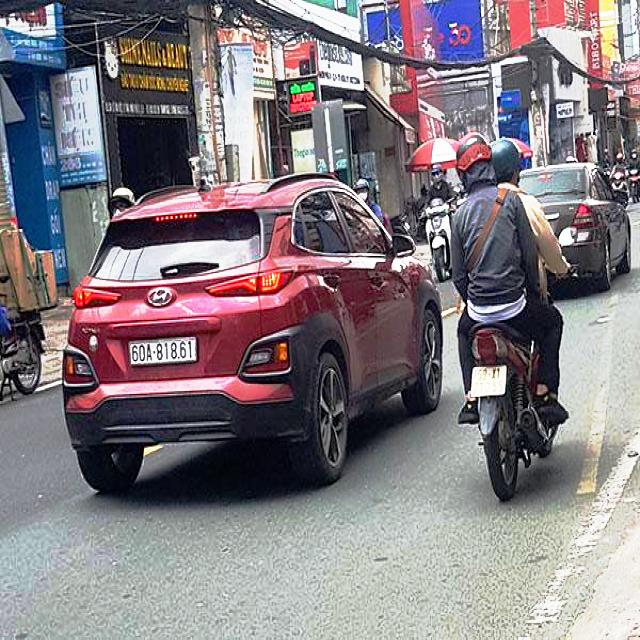license_plate: (130, 337, 198, 364), (473, 367, 506, 396)
